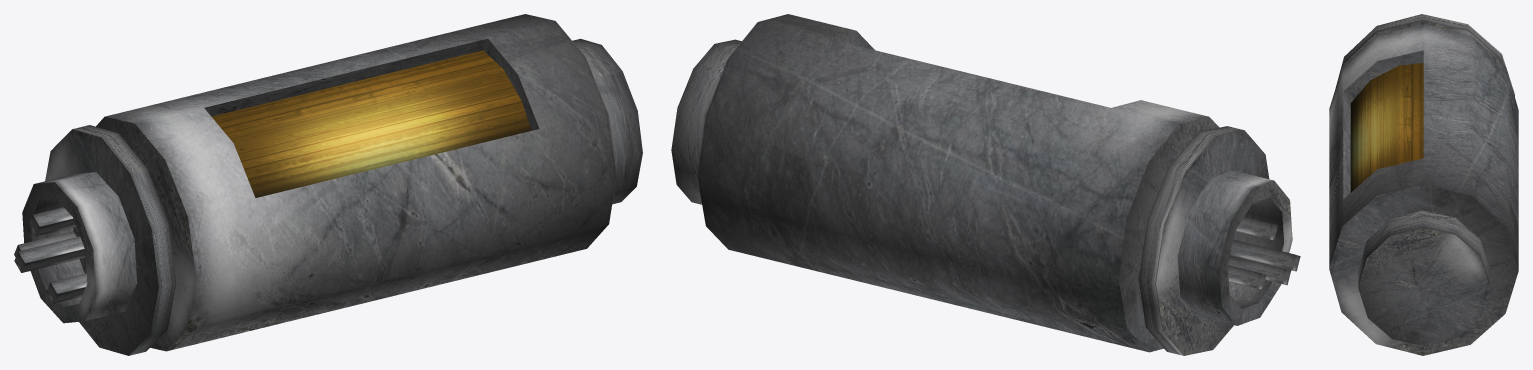
Rendered from static.fbx.
3 views of the same model, side by side, from view 1: azimuth 30°, elevation 25°; view 2: azimuth 150°, elevation 25°; view 3: azimuth 270°, elevation 25° (orthographic). The views are drawn at different scales.
Visible parts, largest first — view 1: Cylinder_2, Plane, Cylinder, Tube, Cylinder_1, Cube_2, Cube, Cube_2_2, Cube_3; view 2: Cylinder_2, Cylinder, Tube, Cylinder_1, Cube, Cube_3, Cube_1, Cube_2_2; view 3: Cylinder_2, Cylinder_1, Plane, Cube_2, Cylinder.
Boxes of the visible parts, x1,y1,x2,y2 form: Cylinder_2: (96,14,616,351); Plane: (212,50,531,197); Cylinder: (45,125,176,355); Tube: (22,172,137,323); Cylinder_1: (572,38,642,204); Cube_2: (204,38,539,130); Cube: (14,236,85,272); Cube_2_2: (29,207,76,236); Cube_3: (46,273,87,303); Cylinder_2: (697,14,1219,352); Cylinder: (1138,126,1269,355); Tube: (1142,170,1292,325); Cylinder_1: (671,39,741,204); Cube: (1230,239,1300,271); Cube_3: (1227,255,1291,285); Cube_1: (1227,265,1266,289); Cube_2_2: (1236,217,1277,240); Cylinder_2: (1329,24,1518,355); Cylinder_1: (1358,210,1489,346); Plane: (1350,63,1423,192); Cube_2: (1343,50,1423,198); Cylinder: (1336,14,1514,96).
Size of the model in its own units: 111 by 40.34 by 40.34.
2 materials, 2 textured.
